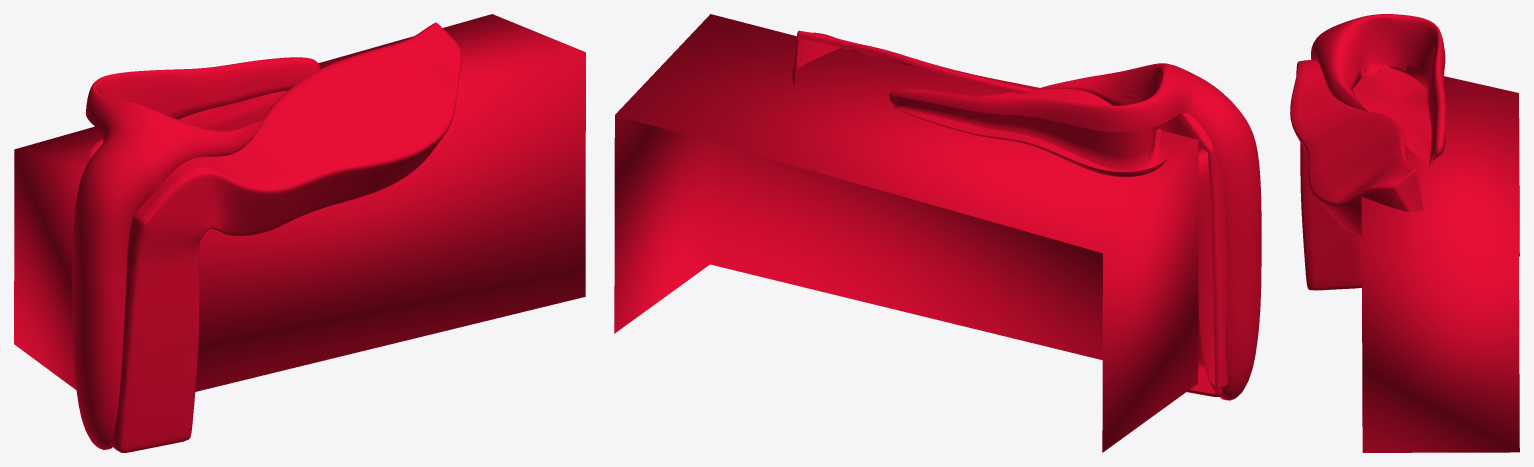
The picture shows the model from 3 angles, left to right: view 1: azimuth 30°, elevation 25°; view 2: azimuth 150°, elevation 25°; view 3: azimuth 270°, elevation 25°; orthographic projection. The views are drawn at different scales.
Visible parts, largest first — view 1: LP_Base; view 2: LP_Base; view 3: LP_Base.
Part boxes in pixels (box(x1,y1,x2,y2)): LP_Base: box(14, 14, 585, 452); LP_Base: box(614, 14, 1261, 452); LP_Base: box(1290, 14, 1519, 452).
Bounding box in the file's own units: 139 × 81.94 × 63.17.
